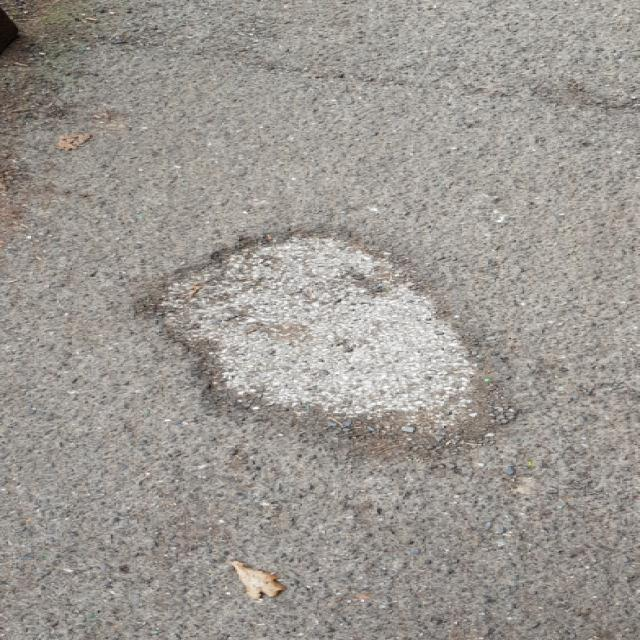pothole: (134, 224, 521, 456)
